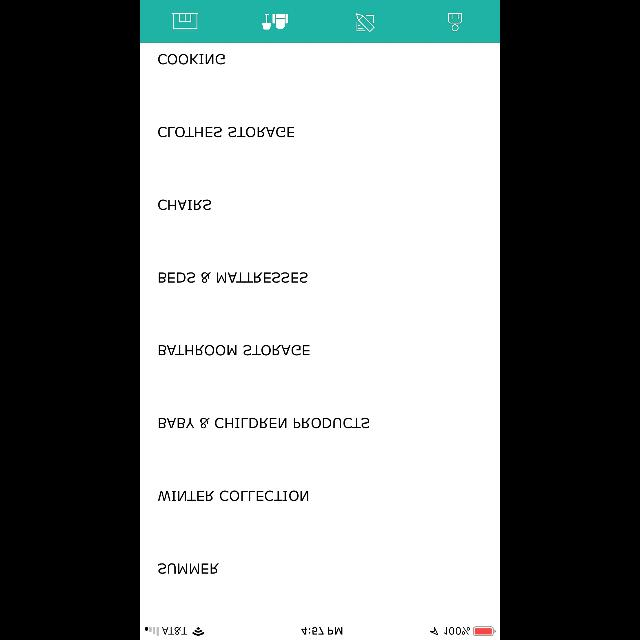icon: (356, 13, 374, 32), (448, 13, 462, 31)
image: (173, 13, 199, 29), (262, 14, 288, 30)
text: (158, 418, 370, 428), (158, 344, 310, 356), (158, 126, 294, 138), (158, 272, 308, 282), (158, 491, 308, 501), (158, 562, 220, 574), (159, 54, 225, 64), (158, 200, 212, 210)
uppertaskbar: (140, 626, 500, 640)
